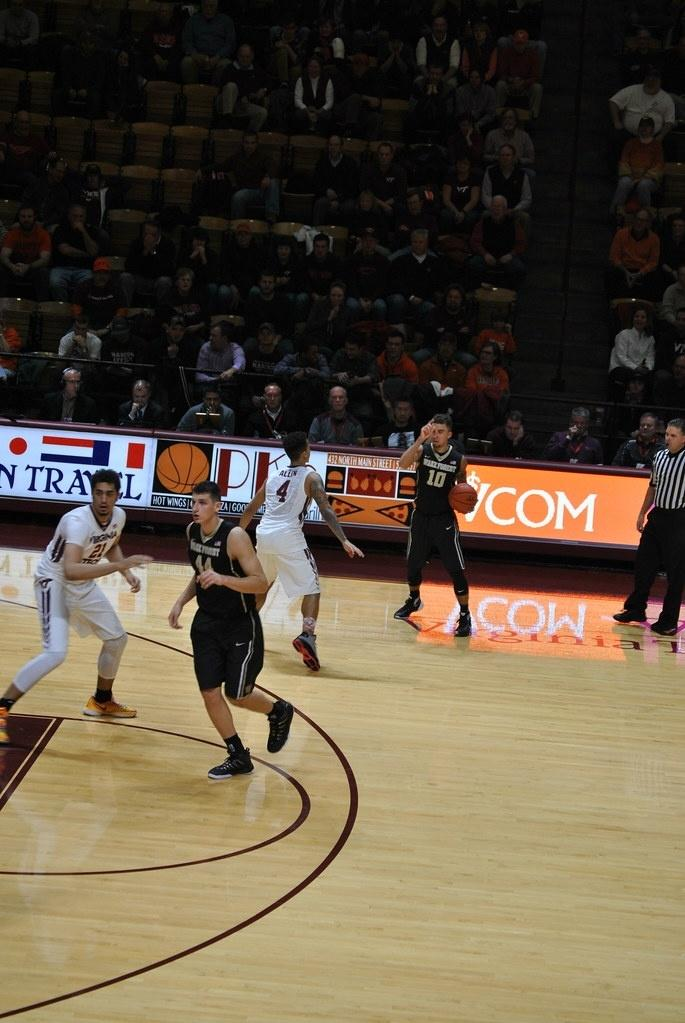basketball-player: (0, 426, 162, 722), (212, 420, 368, 678), (180, 448, 296, 778), (392, 406, 486, 647)
